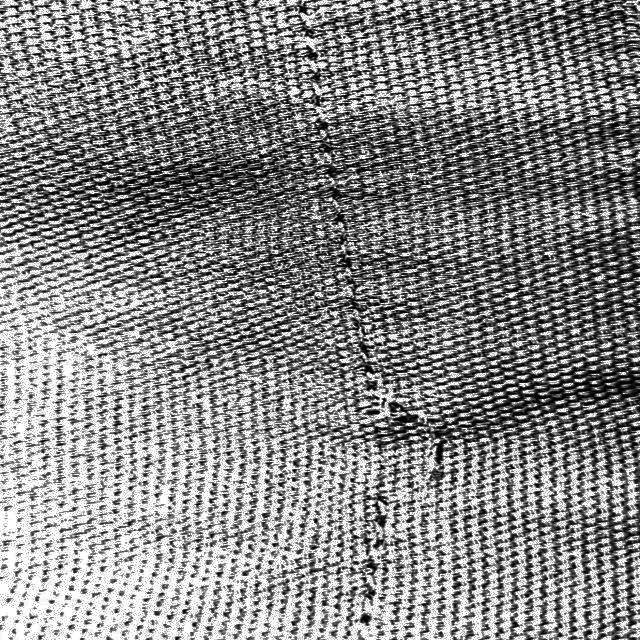Sewing_error: (344, 375, 446, 520)
